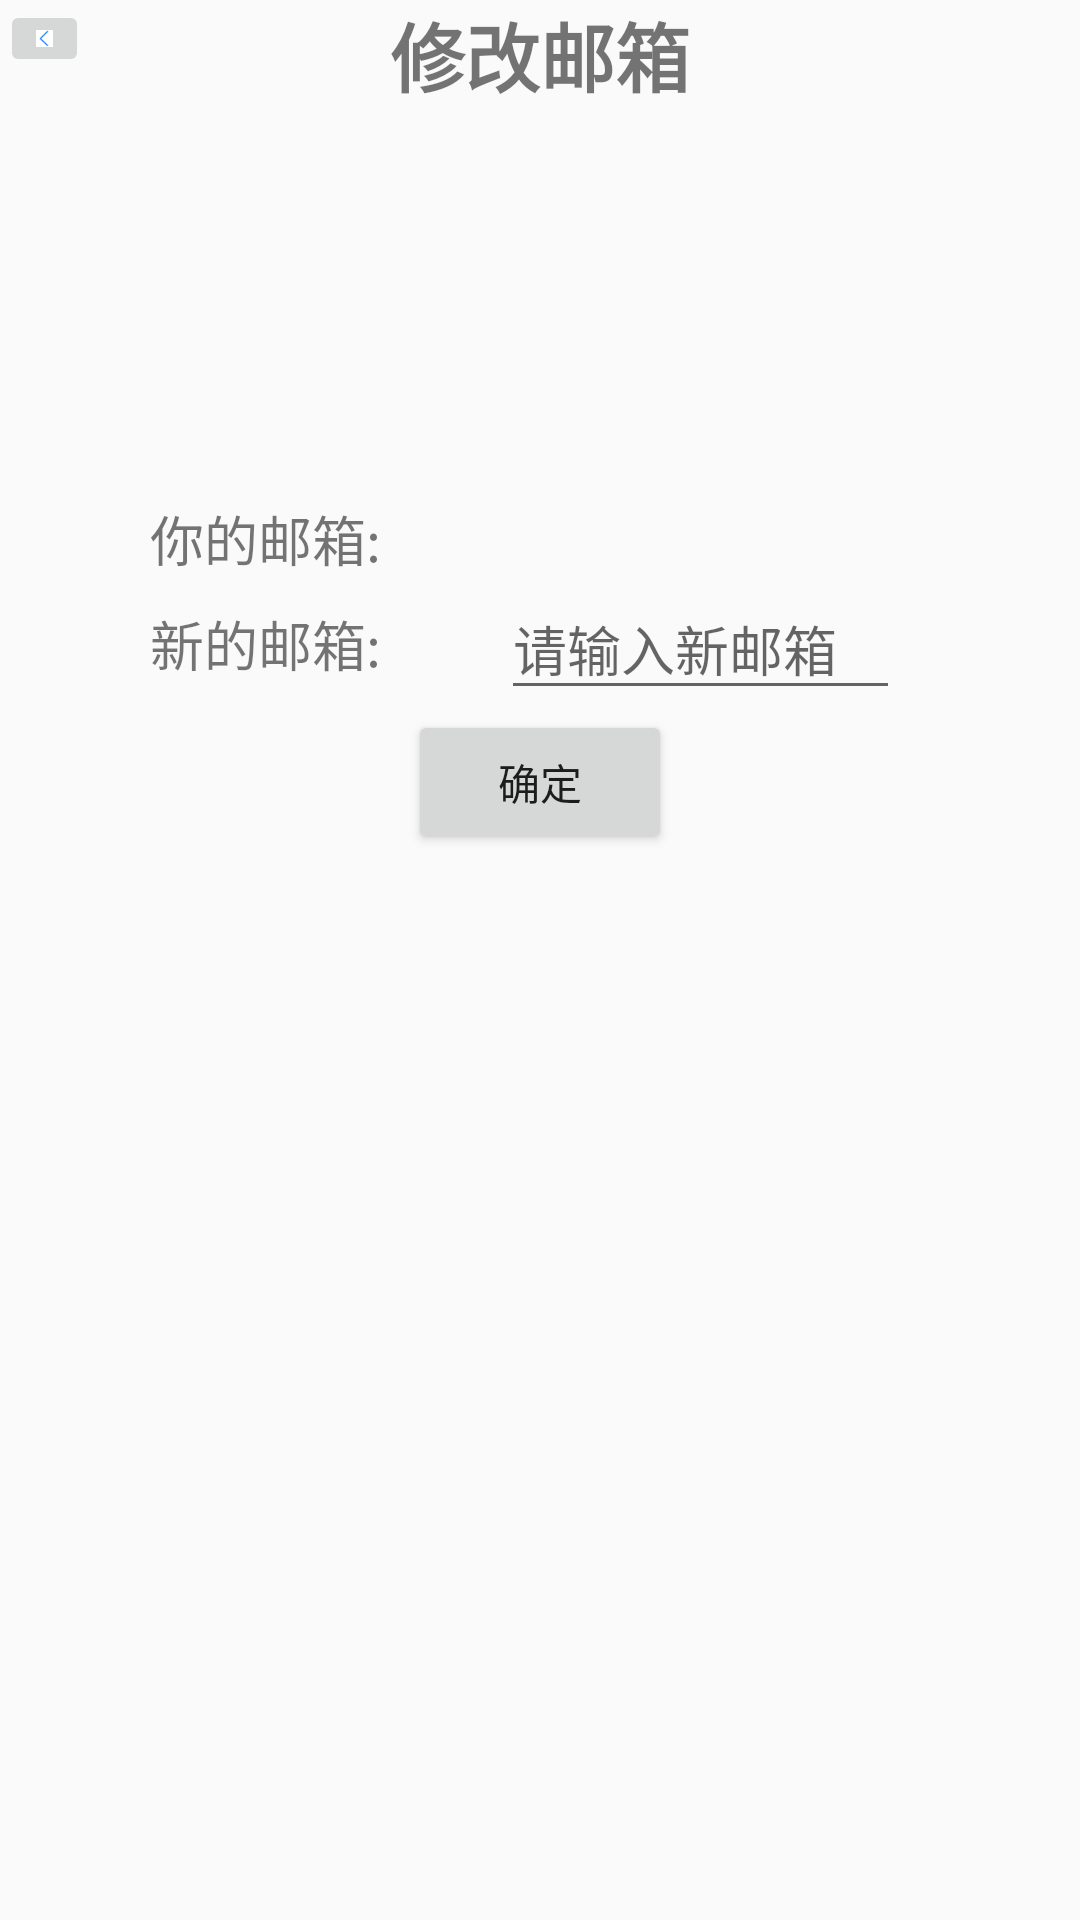

Icons on this 1080w x 1920h Android screen, each with the point to tap as point (x, y):
return: point (44, 38)
